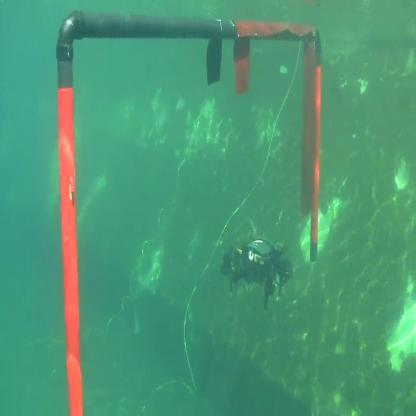gate: (55, 6, 325, 242)
